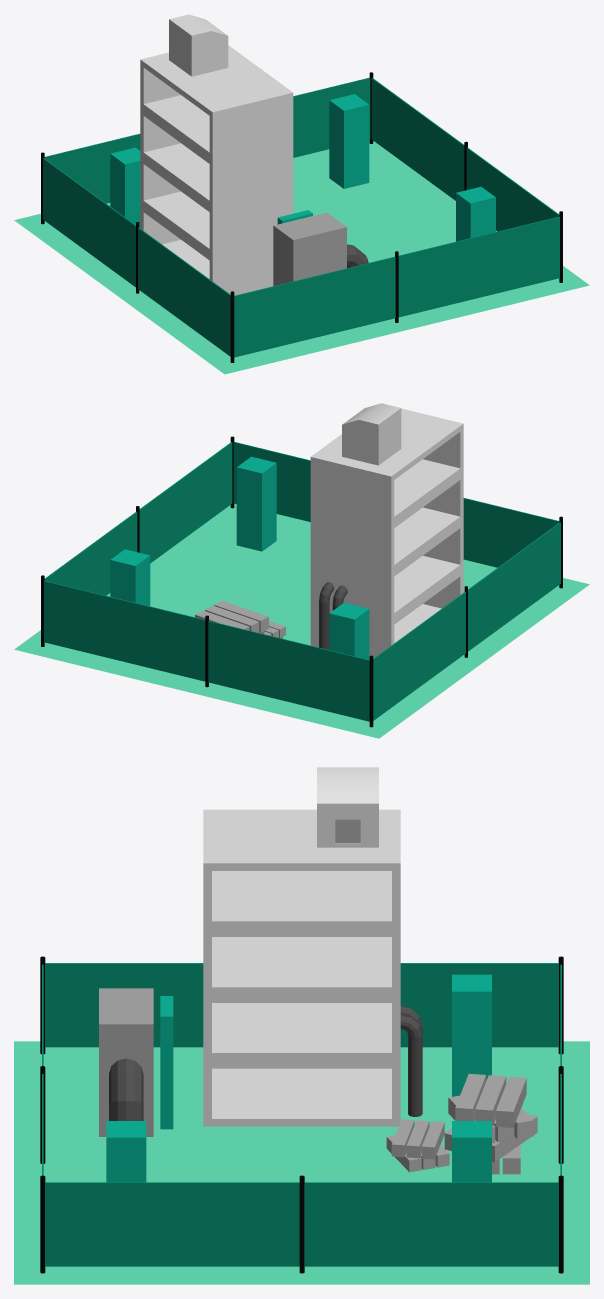
File: 1010_green.fbx
3 views of the same model, one above another, from view 1: azimuth 30°, elevation 25°; view 2: azimuth 150°, elevation 25°; view 3: azimuth 270°, elevation 25° (orthographic). The views are drawn at different scales.
Parts seen in each view (by area): view 1: pCube229, ten_ten5, pCube227, pCube228, pCube217, pCube222, pCube225, pCube233, pCube239, pCube226, pCube224, pCube241 (+3 smaller); view 2: pCube229, ten_ten5, pCube224, pCube223, pCube217, pCube222, pCube226, pCube228, pCube238, pCube225, pCube241, pCube227 (+5 smaller); view 3: pCube229, ten_ten5, pCube225, pCube226, pCube222, pCube217, pCube233, pCube241, pCube240, pCube238, pCube239, pCylinder44 (+5 smaller).
Boxes of the visible parts, x1,y1,x2,y2 form: pCube229: (140, 45, 293, 295); ten_ten5: (14, 139, 589, 374); pCube227: (398, 216, 559, 317); pCube228: (234, 256, 395, 357); pCube217: (138, 227, 230, 356); pCube222: (43, 158, 135, 287); pCube225: (371, 78, 464, 200); pCube233: (273, 212, 346, 286); pCube239: (329, 94, 369, 188); pCube226: (466, 147, 559, 231); pCube224: (293, 77, 370, 157); pCube241: (169, 14, 228, 76); pCube229: (310, 408, 463, 659); ten_ten5: (14, 503, 589, 738); pCube224: (44, 580, 205, 681); pCube223: (208, 621, 369, 721); pCube217: (468, 522, 560, 651); pCube222: (373, 592, 465, 720); pCube226: (139, 442, 232, 563); pCube228: (463, 498, 559, 567); pCube238: (236, 456, 276, 551); pCube225: (44, 511, 137, 595); pCube241: (342, 403, 401, 465); pCube227: (233, 442, 310, 521); pCube229: (203, 809, 400, 1126); ten_ten5: (14, 1041, 589, 1284); pCube225: (304, 1182, 558, 1266); pCube226: (45, 1182, 299, 1266); pCube222: (400, 963, 558, 1047); pCube217: (45, 963, 203, 1047); pCube233: (99, 988, 153, 1136); pCube241: (317, 767, 378, 847); pCube240: (452, 974, 491, 1096); pCube238: (106, 1121, 146, 1182); pCube239: (452, 1121, 491, 1182); pCylinder44: (109, 1058, 143, 1120).
Size of the model in its own units: 10 by 6.24 by 10.
